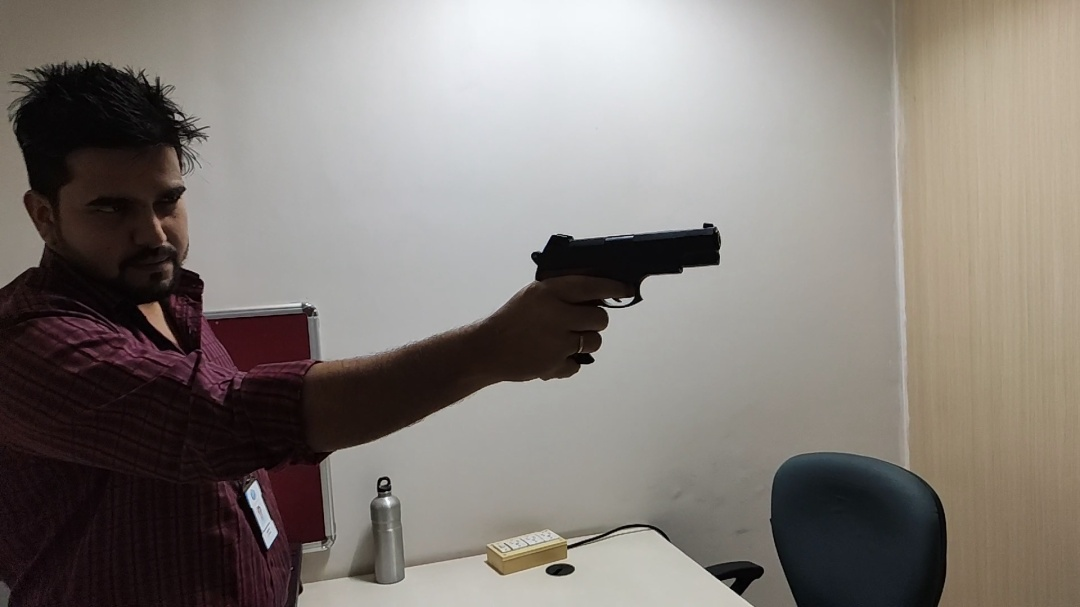gun: (529, 221, 726, 370)
